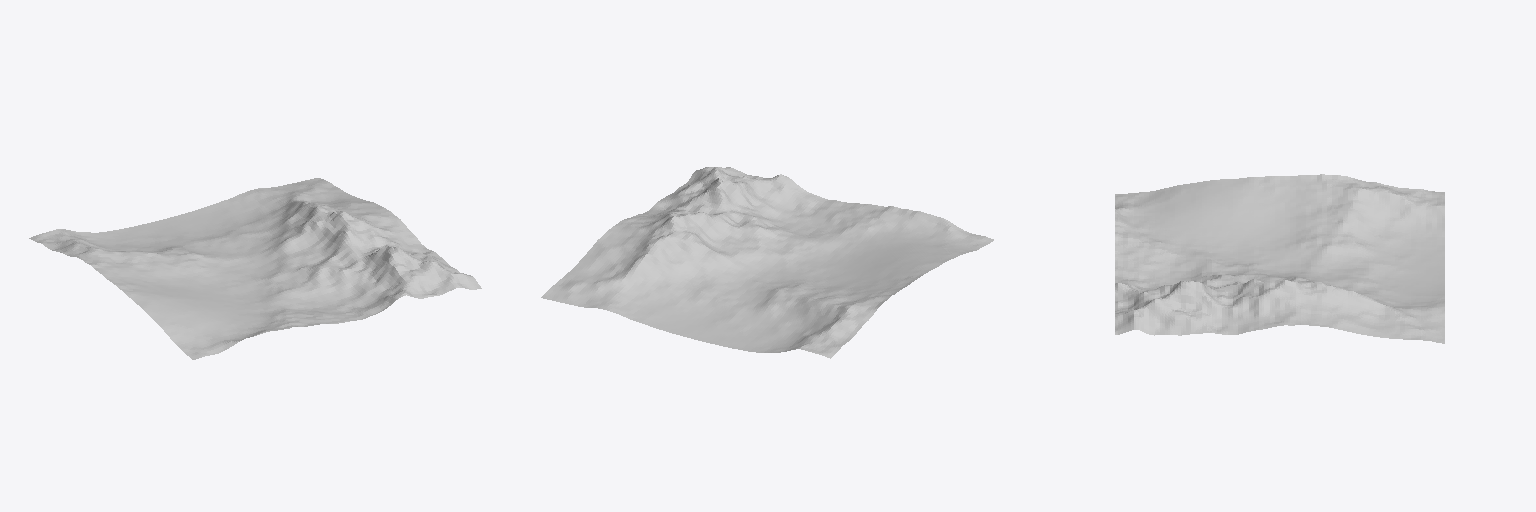
File: ground7.obj
The picture shows the model from 3 angles: view 1: azimuth 30°, elevation 25°; view 2: azimuth 150°, elevation 25°; view 3: azimuth 270°, elevation 25°; orthographic projection.
Visible parts, largest first — view 1: ground7; view 2: ground7; view 3: ground7.
Boxes of the visible parts, box(x1,y1,x2,y2) form: ground7: box(29, 178, 481, 359); ground7: box(541, 167, 993, 358); ground7: box(1115, 174, 1444, 343).
Size of the model in its own units: 84.57 by 11.85 by 83.25.